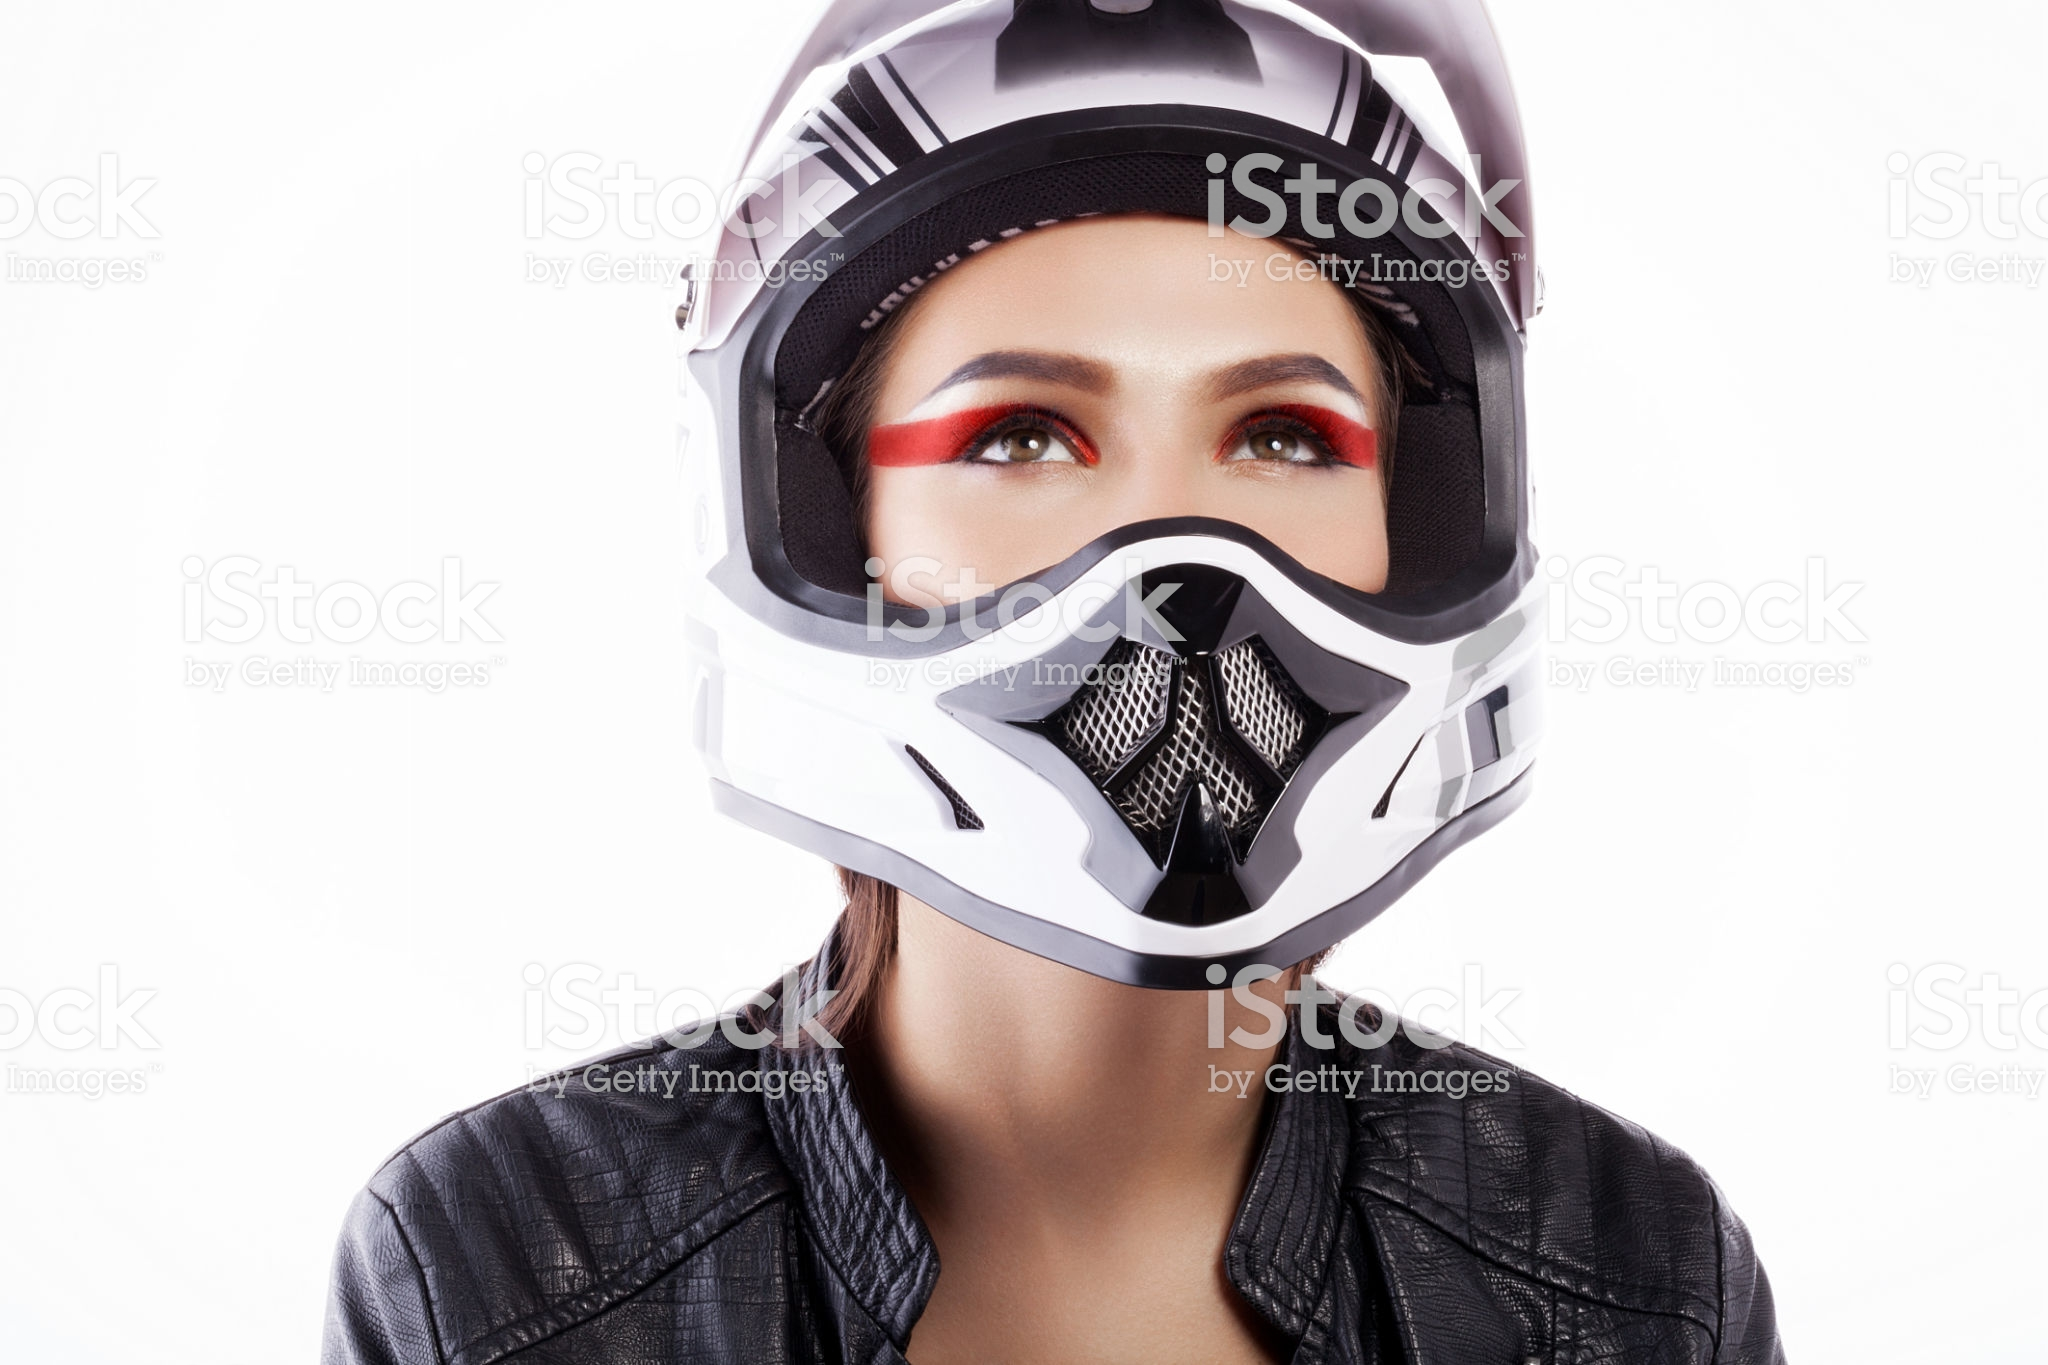helmet: (656, 29, 1590, 954)
